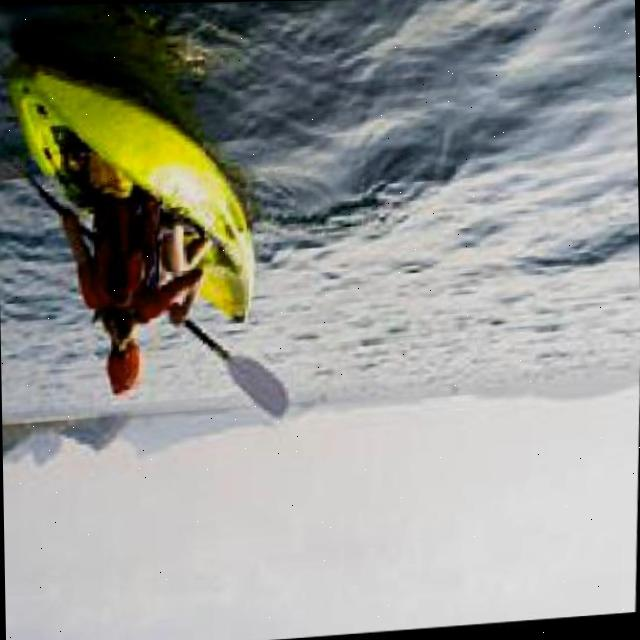kayak: (12, 64, 257, 328)
